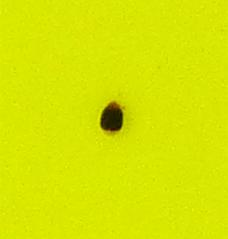Coleoptera: (100, 100, 128, 139)
